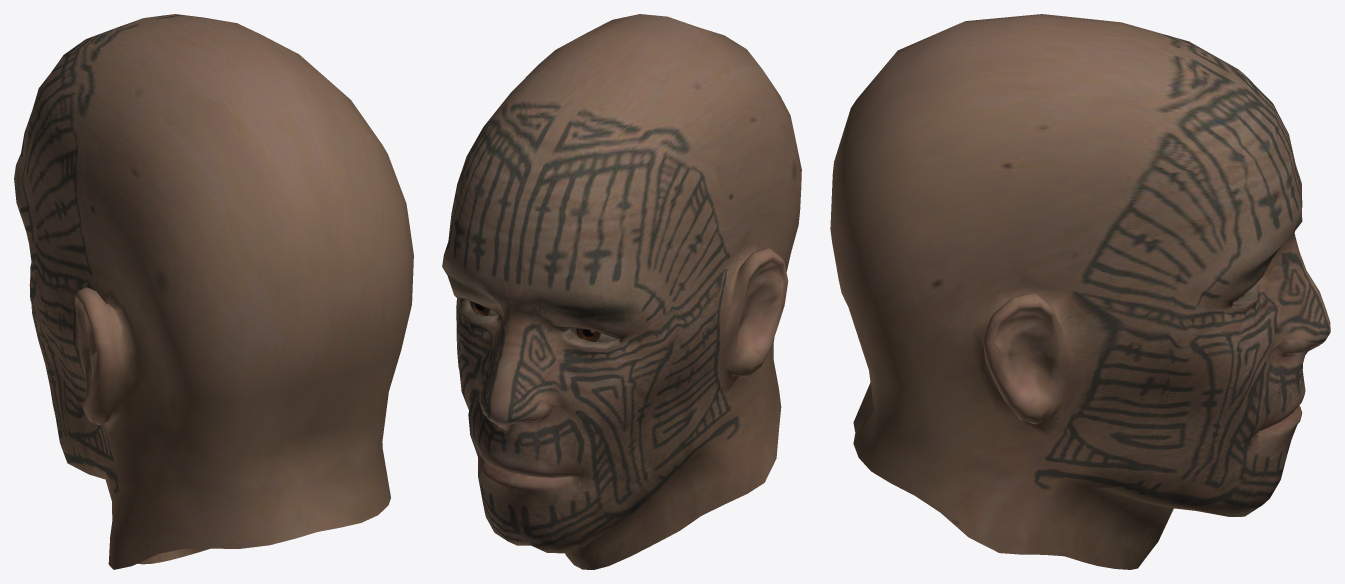
Rendered from G3_Head_Slave_Myrtana_Animated_02_S12.obj.
3 renders of one model, left to right at view 1: azimuth 30°, elevation 25°; view 2: azimuth 150°, elevation 25°; view 3: azimuth 270°, elevation 25°, orthographic. The views are drawn at different scales.
Visible parts, largest first — view 1: G3_Animation_Head_Slave_Main_02; view 2: G3_Animation_Head_Slave_Main_02; view 3: G3_Animation_Head_Slave_Main_02.
Boxes of the visible parts, x1,y1,x2,y2 form: G3_Animation_Head_Slave_Main_02: [14, 14, 413, 569]; G3_Animation_Head_Slave_Main_02: [442, 14, 801, 569]; G3_Animation_Head_Slave_Main_02: [830, 14, 1330, 569].
Bounding box in the file's own units: 0.1382 × 0.2411 × 0.2036.
